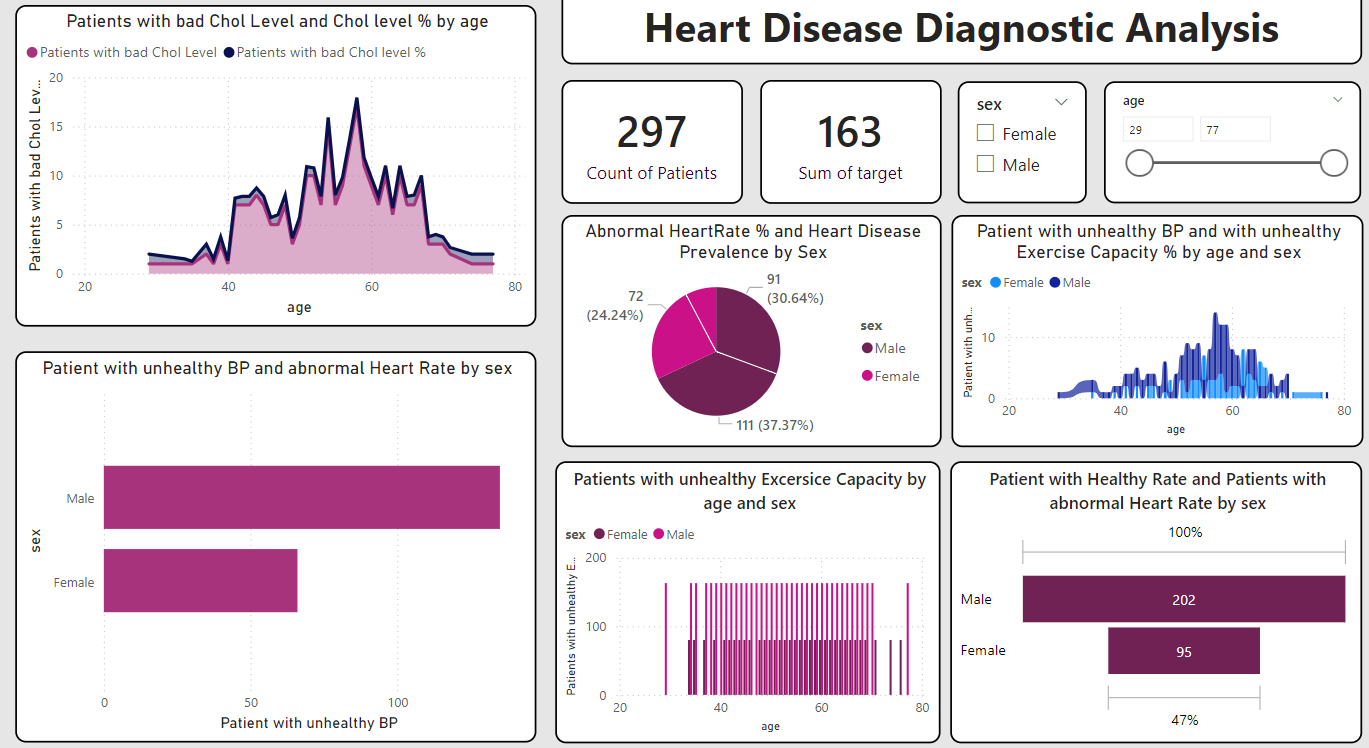

Layout of this report page (visuals, bound fields, positions):
{"tool":"powerbi","page":{"name":"Page 1","canvas":[1280,720],"ordinal":0},"visuals":[{"type":"card","fields":{"Values":["CountNonNull(cleaned_HeartDisease_data.Patient ID)"]},"box":[528,88,168.6,115.1],"z":0},{"type":"slicer","fields":{"Values":["cleaned_HeartDisease_data.sex"]},"box":[897,89.2,119.8,114],"z":1000},{"type":"card","fields":{"Values":["Sum(cleaned_HeartDisease_data.target)"]},"box":[712.5,88,168.6,115.1],"z":2000},{"type":"slicer","fields":{"Values":["cleaned_HeartDisease_data.age"]},"box":[1032.7,89.2,239.5,114],"z":3000},{"type":"stackedAreaChart","title":"Patients with bad Chol Level and Chol level % by age","fields":{"Y":["cleaned_HeartDisease_data.Patients with bad Chol Level","cleaned_HeartDisease_data.Patients with bad Chol leve %"],"Category":["cleaned_HeartDisease_data.age"]},"box":[19.8,18.6,484.9,298.8],"z":4000},{"type":"clusteredBarChart","title":"Patient with unhealthy BP and abnormal Heart Rate by sex","fields":{"Category":["cleaned_HeartDisease_data.sex","cleaned_HeartDisease_data.Heart Disease Prevalence"],"Y":["cleaned_HeartDisease_data.Patient with unhealthy BP"]},"box":[19.8,340.7,484.9,364],"z":5000},{"type":"pieChart","title":"Abnormal HeartRate % and  Heart Disease Prevalence by Sex","fields":{"Y":["CountNonNull(cleaned_HeartDisease_data.Patient ID)"],"Category":["cleaned_HeartDisease_data.sex"],"Series":["cleaned_HeartDisease_data.Heart Disease Prevalence"]},"box":[527.8,213.6,353.5,216.3],"z":6000},{"type":"ribbonChart","title":"Patient with unhealthy BP and with unhealthy Exercise Capacity % by age and sex","fields":{"Category":["cleaned_HeartDisease_data.age"],"Y":["cleaned_HeartDisease_data.Patient with unhealthy BP"],"Series":["cleaned_HeartDisease_data.sex"]},"box":[890.1,213.7,382.9,215.7],"z":7000},{"type":"textbox","box":[528,4,745,70],"z":8000},{"type":"clusteredColumnChart","fields":{"Y":["cleaned_HeartDisease_data.Patients with unhealthy Excersice Capacity"],"Category":["cleaned_HeartDisease_data.age"],"Series":["cleaned_HeartDisease_data.sex"]},"box":[522.5,442.5,358.8,262.5],"z":8001},{"type":"funnel","fields":{"Category":["cleaned_HeartDisease_data.sex"],"Y":["cleaned_HeartDisease_data.Patient with Healthy Rate"]},"box":[890,443,383,262],"z":8002}]}

Visuals, with their boxes in screenshot pixels (x1, y1, x2, y2), scaled from the page's 1280x720 canvas onto the 1369x748 screenshot:
card - CountNonNull(cleaned_HeartDisease_data.Patient ID): left=565, top=91, right=745, bottom=211
slicer - cleaned_HeartDisease_data.sex: left=959, top=93, right=1087, bottom=211
card - Sum(cleaned_HeartDisease_data.target): left=762, top=91, right=942, bottom=211
slicer - cleaned_HeartDisease_data.age: left=1105, top=93, right=1361, bottom=211
"Patients with bad Chol Level and Chol level % by age" stackedAreaChart: left=21, top=19, right=540, bottom=330
"Patient with unhealthy BP and abnormal Heart Rate by sex" clusteredBarChart: left=21, top=354, right=540, bottom=732
"Abnormal HeartRate % and  Heart Disease Prevalence by Sex" pieChart: left=564, top=222, right=943, bottom=447
"Patient with unhealthy BP and with unhealthy Exercise Capacity % by age and sex" ribbonChart: left=952, top=222, right=1362, bottom=446
textbox: left=565, top=4, right=1362, bottom=77
clusteredColumnChart - cleaned_HeartDisease_data.Patients with unhealthy Excersice Capacity x cleaned_HeartDisease_data.age: left=559, top=460, right=943, bottom=732
funnel - cleaned_HeartDisease_data.sex x cleaned_HeartDisease_data.Patient with Healthy Rate: left=952, top=460, right=1362, bottom=732
